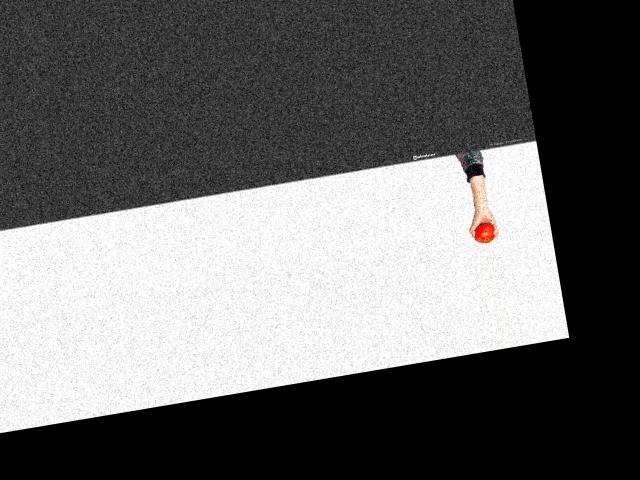tomato: (472, 221, 496, 245)
